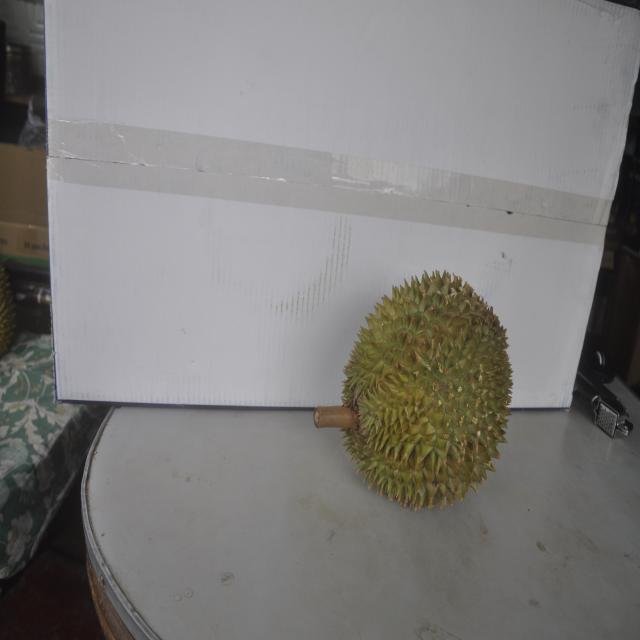mature: (333, 268, 515, 511)
